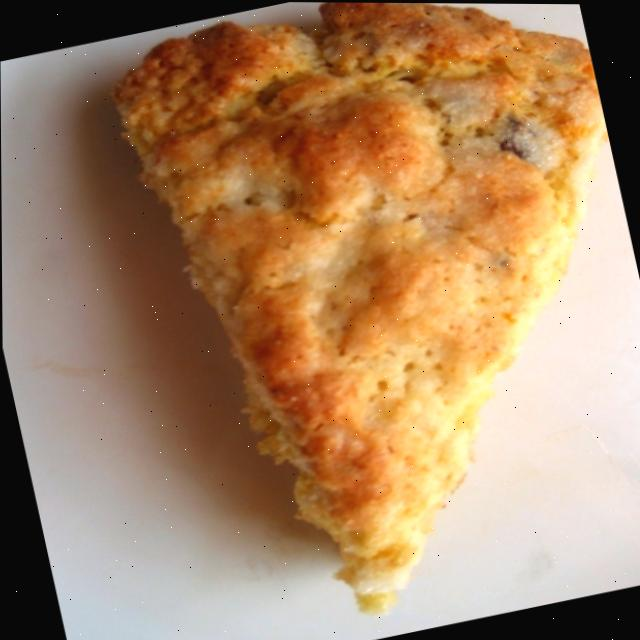面包点心: (80, 0, 640, 640)
